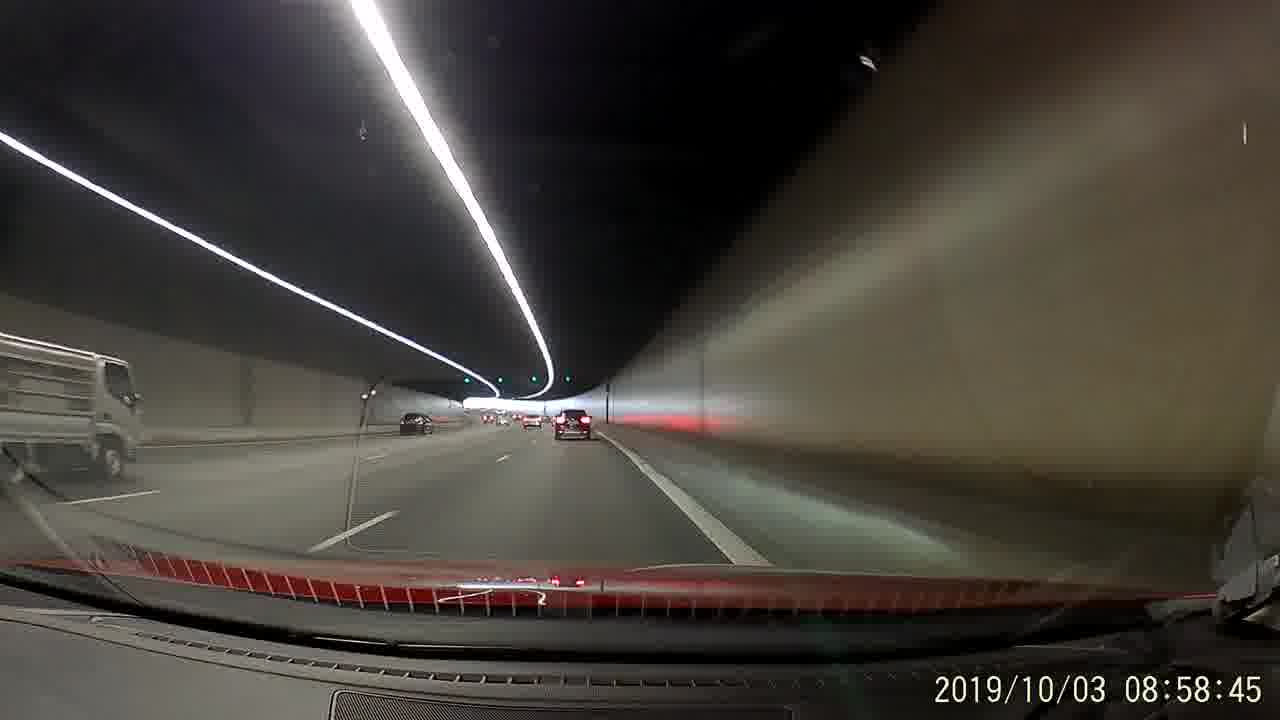car: (555, 408, 591, 442), (398, 411, 435, 437), (520, 411, 542, 430), (493, 413, 509, 428)
